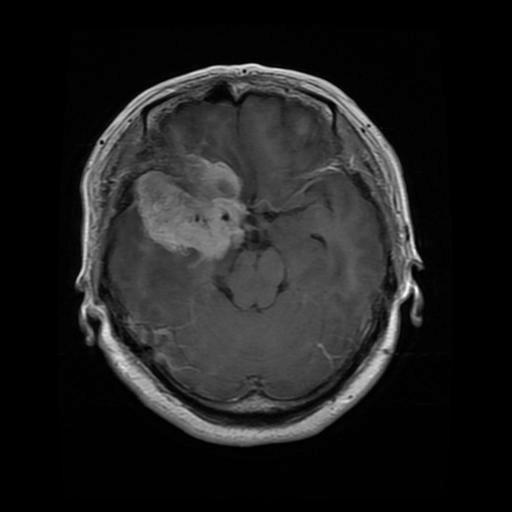Tumour-Meningioma: (127, 151, 273, 278)
